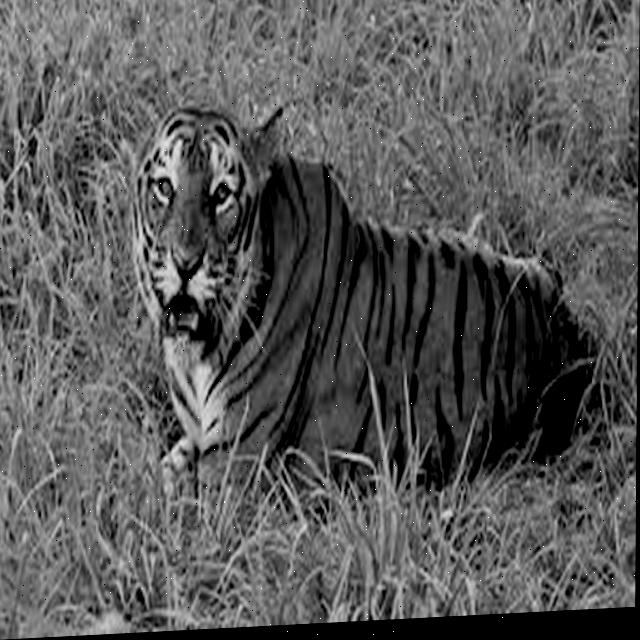Tiger: (118, 79, 612, 532)
